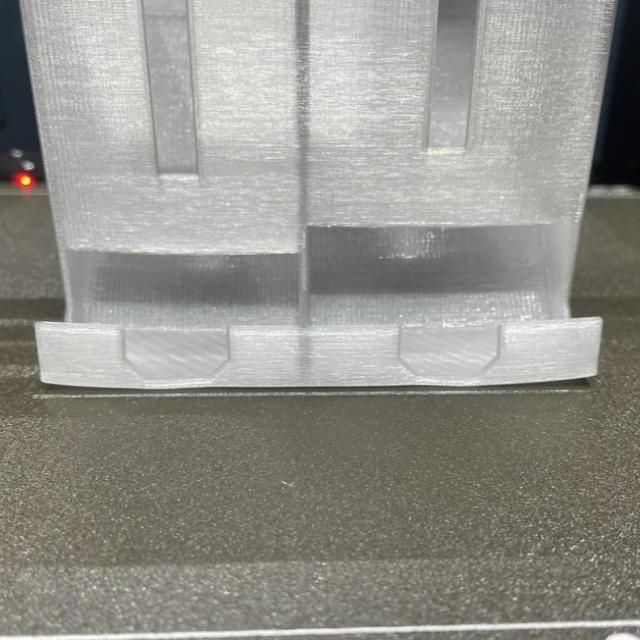warping: (33, 372, 110, 398), (544, 368, 606, 392)
